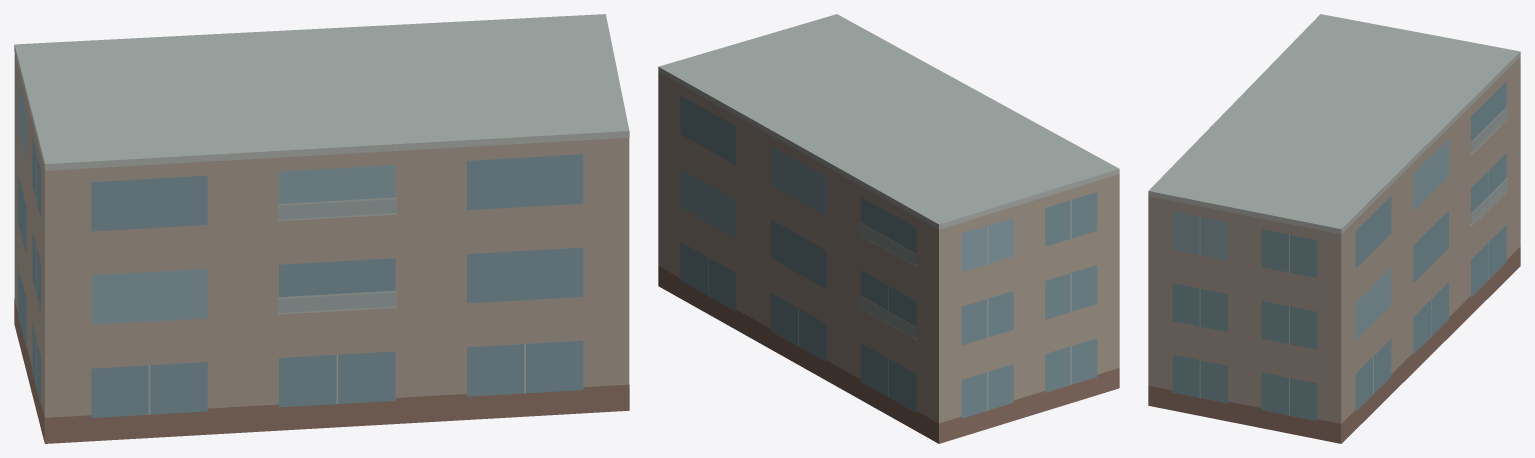
File: survey-upis-32729225.glb
The picture shows the model from 3 angles, left to right: view 1: azimuth 30°, elevation 25°; view 2: azimuth 150°, elevation 25°; view 3: azimuth 270°, elevation 25°; orthographic projection. The views are drawn at different scales.
Visible parts, largest first — view 1: survey-upis-32729225.tmp; view 2: survey-upis-32729225.tmp; view 3: survey-upis-32729225.tmp.
Part boxes in pixels (x1,y1,x2,y2): survey-upis-32729225.tmp: (14, 14, 629, 443); survey-upis-32729225.tmp: (658, 14, 1119, 443); survey-upis-32729225.tmp: (1148, 14, 1520, 443).
Bounding box in the file's own units: 21.93 × 10.2 × 16.04.
